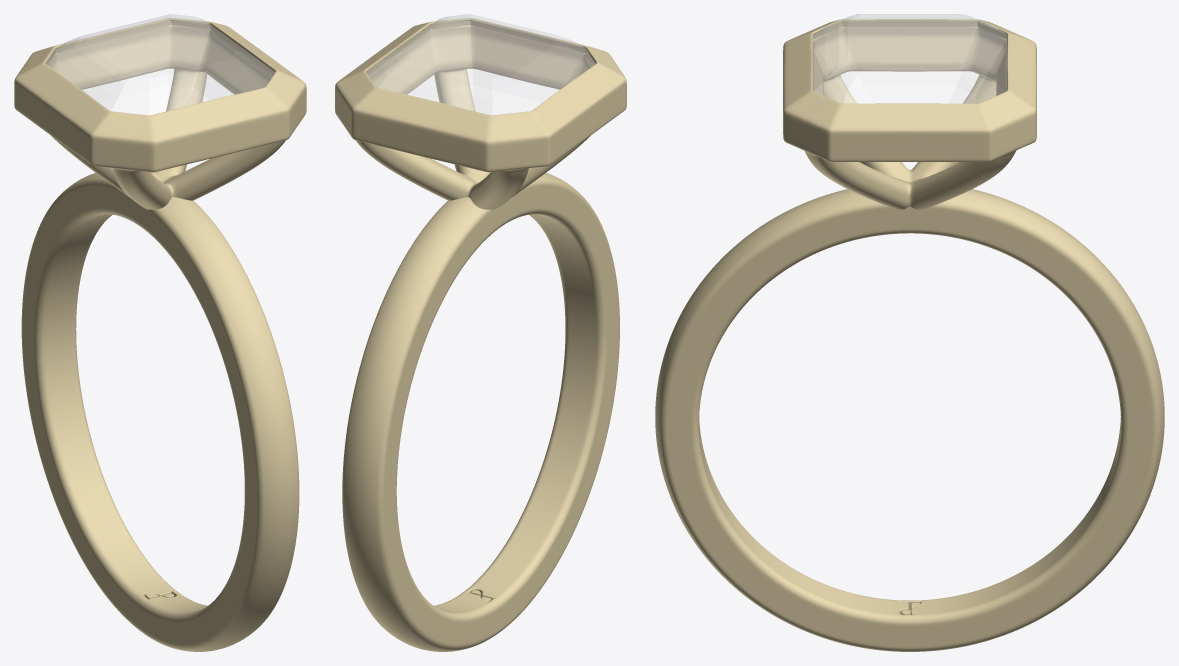
Rendered from LR1743_AS_30 WHITE DIMOND GLB (1).glb.
3 renders of one model, left to right at view 1: azimuth 30°, elevation 25°; view 2: azimuth 150°, elevation 25°; view 3: azimuth 270°, elevation 25°, orthographic. The views are drawn at different scales.
Visible parts, largest first — view 1: Metal 01(C0DDD501-A24A-4D8A-A44E-5092C85D724C), Metal 01(C2B77B85-2C22-4393-A197-B9C798C4049B), Diamond_Emerald Square(D063E76B-FA2F-4C0E-BA35-4FD66D0FD024); view 2: Metal 01(C0DDD501-A24A-4D8A-A44E-5092C85D724C), Metal 01(C2B77B85-2C22-4393-A197-B9C798C4049B), Diamond_Emerald Square(D063E76B-FA2F-4C0E-BA35-4FD66D0FD024); view 3: Metal 01(C0DDD501-A24A-4D8A-A44E-5092C85D724C), Metal 01(C2B77B85-2C22-4393-A197-B9C798C4049B), Diamond_Emerald Square(D063E76B-FA2F-4C0E-BA35-4FD66D0FD024).
Part boxes in pixels (x1,y1,x2,y2): Metal 01(C0DDD501-A24A-4D8A-A44E-5092C85D724C): [21, 173, 299, 651]; Metal 01(C2B77B85-2C22-4393-A197-B9C798C4049B): [14, 18, 306, 209]; Diamond_Emerald Square(D063E76B-FA2F-4C0E-BA35-4FD66D0FD024): [46, 14, 274, 114]; Metal 01(C0DDD501-A24A-4D8A-A44E-5092C85D724C): [342, 173, 619, 651]; Metal 01(C2B77B85-2C22-4393-A197-B9C798C4049B): [335, 18, 626, 209]; Diamond_Emerald Square(D063E76B-FA2F-4C0E-BA35-4FD66D0FD024): [366, 14, 595, 114]; Metal 01(C0DDD501-A24A-4D8A-A44E-5092C85D724C): [655, 189, 1164, 651]; Metal 01(C2B77B85-2C22-4393-A197-B9C798C4049B): [783, 19, 1036, 209]; Diamond_Emerald Square(D063E76B-FA2F-4C0E-BA35-4FD66D0FD024): [813, 14, 1006, 103].
Size of the model in its own units: 0.0106 by 0.0275 by 0.0209.
